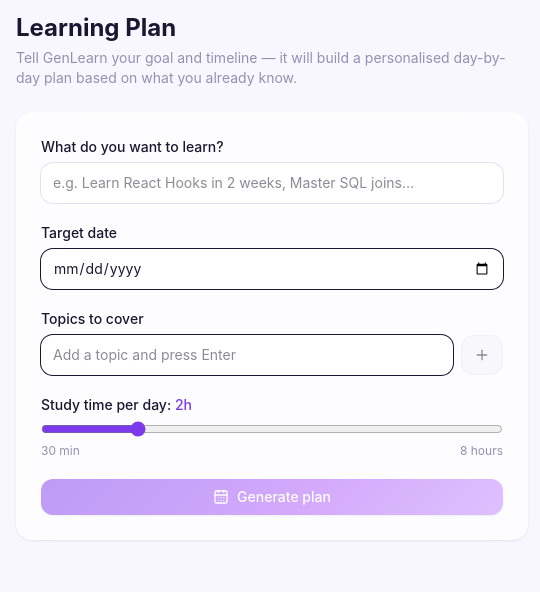
Test: StudyPlanPage — form › removes topic chip when X is clicked
The width and height of the screenshot is (540, 592).
Type "TypeScript" into the field with placeholder "Add a topic and press Enter". click: (247, 355)
box: x1=41 y1=335 x2=453 y2=375
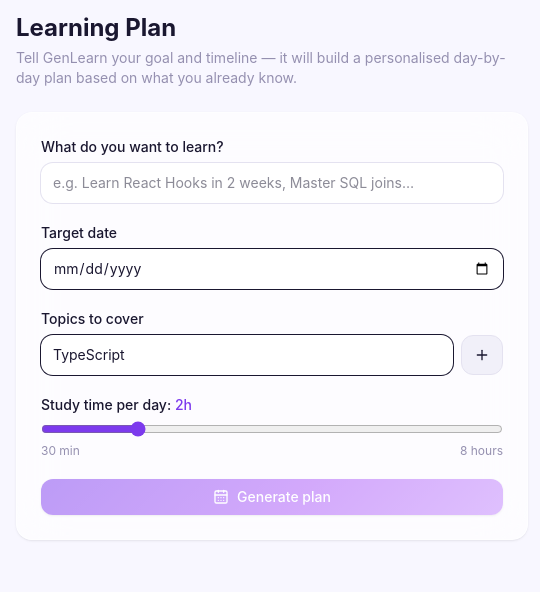
Press Enter in the field with placeholder "Add a topic and press Enter", box x1=41 y1=335 x2=453 y2=375
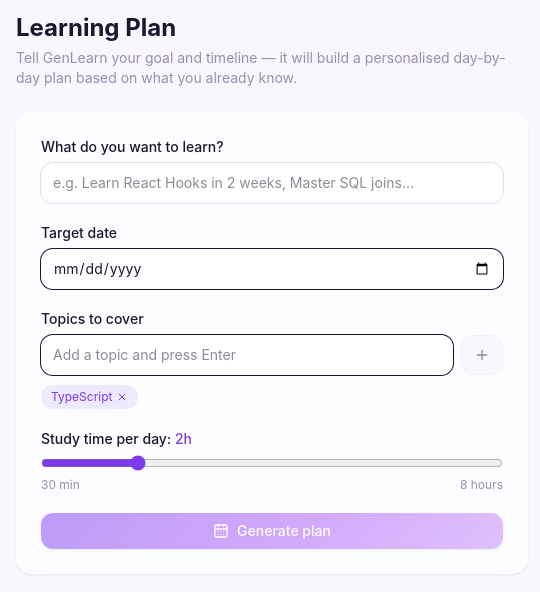
Expected: the text "TypeScript" is shown, x1=41 y1=385 x2=138 y2=409
Click the button without text next to "TypeScript". click: (122, 397)
box: x1=116 y1=391 x2=128 y2=403
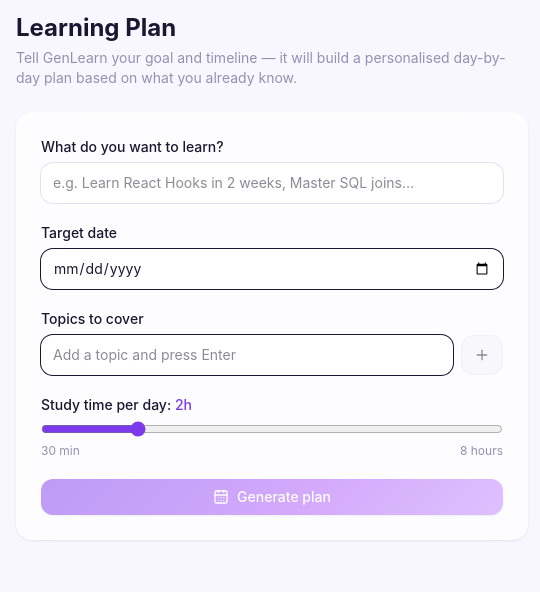
Expected: the text "TypeScript" is gone
